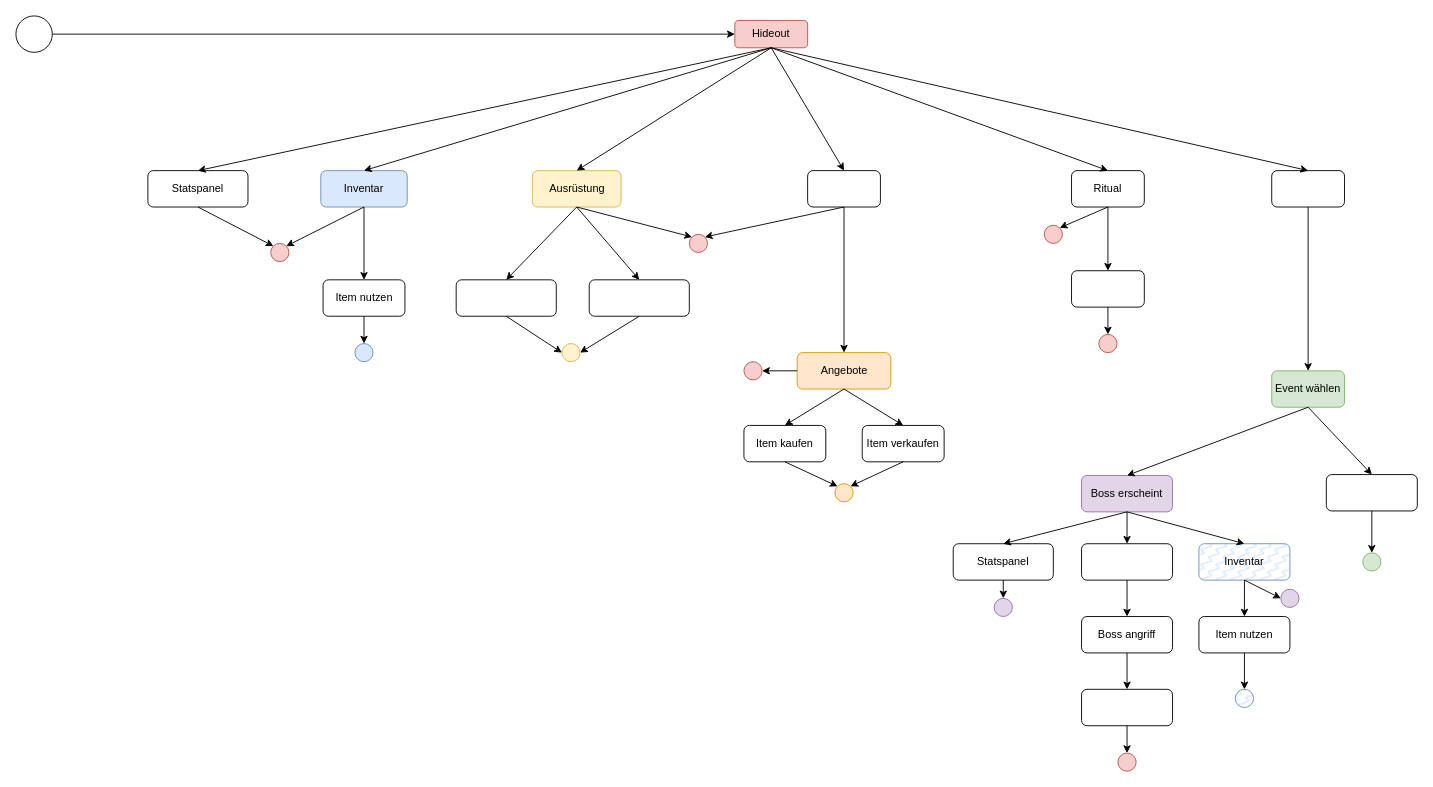
The diagram is 1433 pixels wide and 787 high, and some of its shapes have lost their labels. The box of each missing label's shape, as (x1, y1, x2, y2) in pixels:
Boss / Spieler stirbt: (1081, 688, 1173, 726)
Boss Welt wählen: (1271, 170, 1345, 207)
Event passiert: (1325, 474, 1417, 511)
Fähigkeit ausrüsten: (588, 279, 689, 316)
Händler wählen: (807, 170, 880, 207)
Ritual durchführen: (1071, 270, 1144, 307)
Spieler angriff: (1081, 543, 1173, 580)
Waffe ausrüsten: (455, 279, 556, 316)
